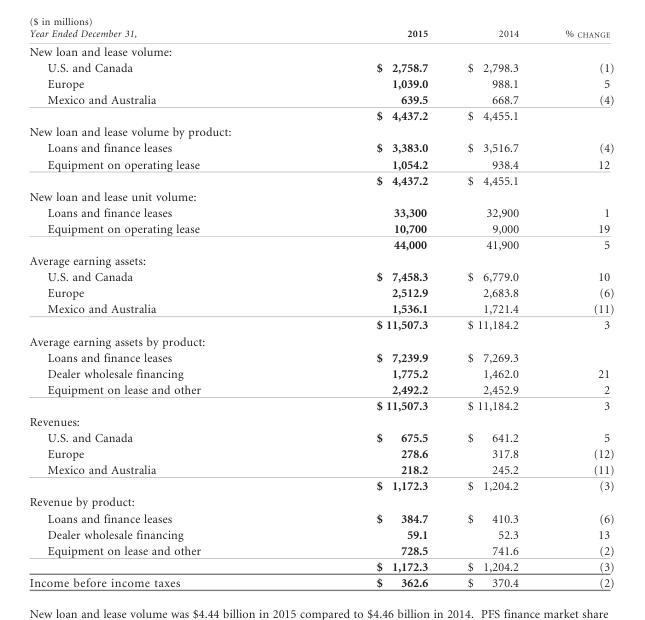table: (28, 28, 613, 588)
table column: (28, 28, 287, 588), (287, 28, 447, 588), (447, 28, 541, 588), (541, 28, 613, 588)
table column header: (28, 28, 613, 42)
table projected row header: (28, 42, 613, 59), (28, 413, 613, 430), (28, 124, 613, 140), (28, 188, 613, 204), (28, 253, 613, 269), (28, 333, 613, 349), (28, 494, 613, 510)
table row: (28, 42, 613, 59), (28, 59, 613, 76), (28, 236, 613, 253), (28, 413, 613, 430), (28, 76, 613, 92), (28, 92, 613, 108), (28, 108, 613, 124), (28, 124, 613, 140), (28, 140, 613, 156), (28, 156, 613, 172), (28, 172, 613, 188), (28, 188, 613, 204), (28, 204, 613, 220), (28, 220, 613, 236), (28, 253, 613, 269), (28, 269, 613, 285), (28, 285, 613, 301), (28, 301, 613, 317), (28, 317, 613, 333), (28, 333, 613, 349), (28, 349, 613, 365), (28, 365, 613, 381), (28, 381, 613, 397), (28, 397, 613, 413), (28, 430, 613, 446), (28, 446, 613, 462), (28, 462, 613, 478), (28, 478, 613, 494), (28, 494, 613, 510), (28, 510, 613, 526), (28, 526, 613, 542), (28, 542, 613, 558), (28, 558, 613, 574), (28, 28, 613, 42), (28, 574, 613, 588)
